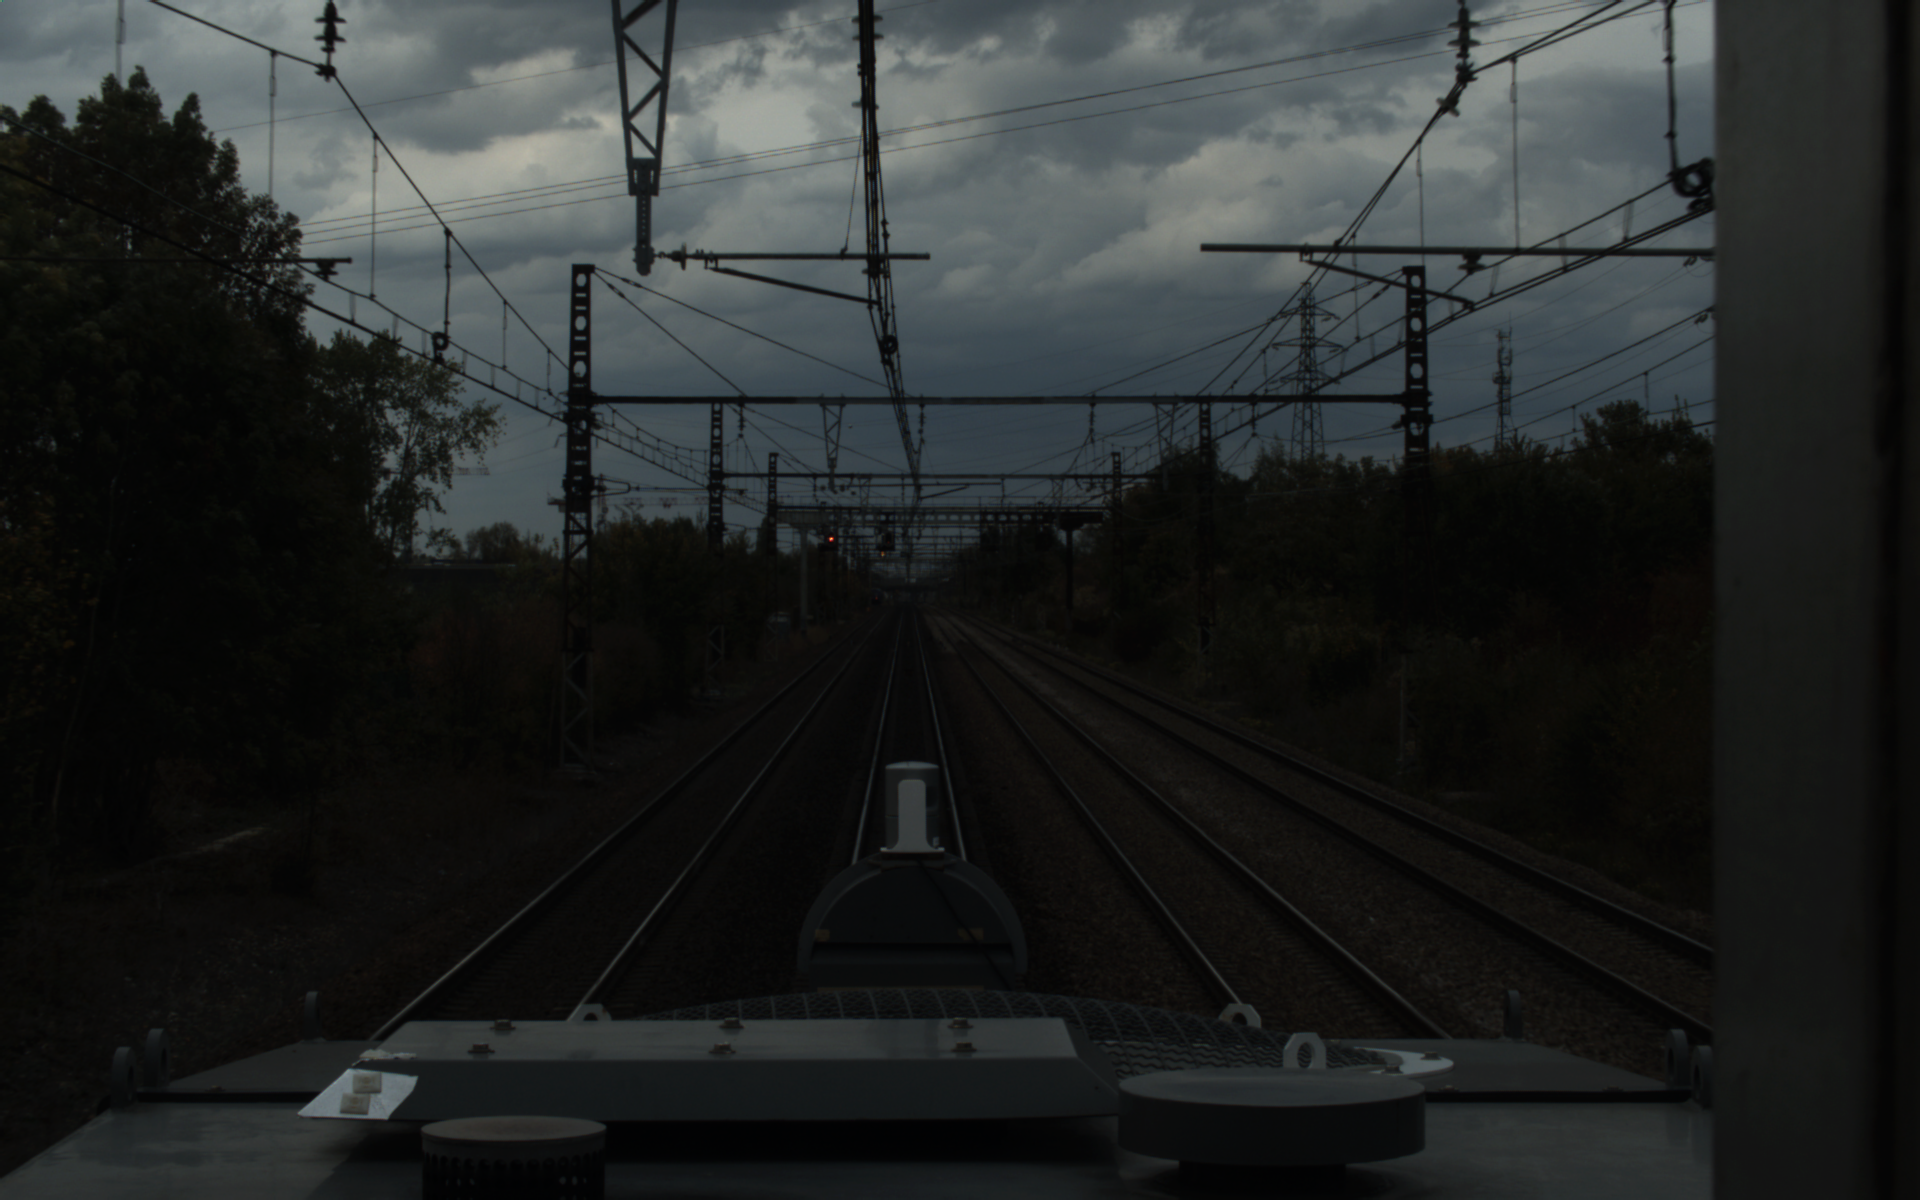Blinking: (881, 529, 894, 547)
Fixed: (825, 531, 838, 546)
